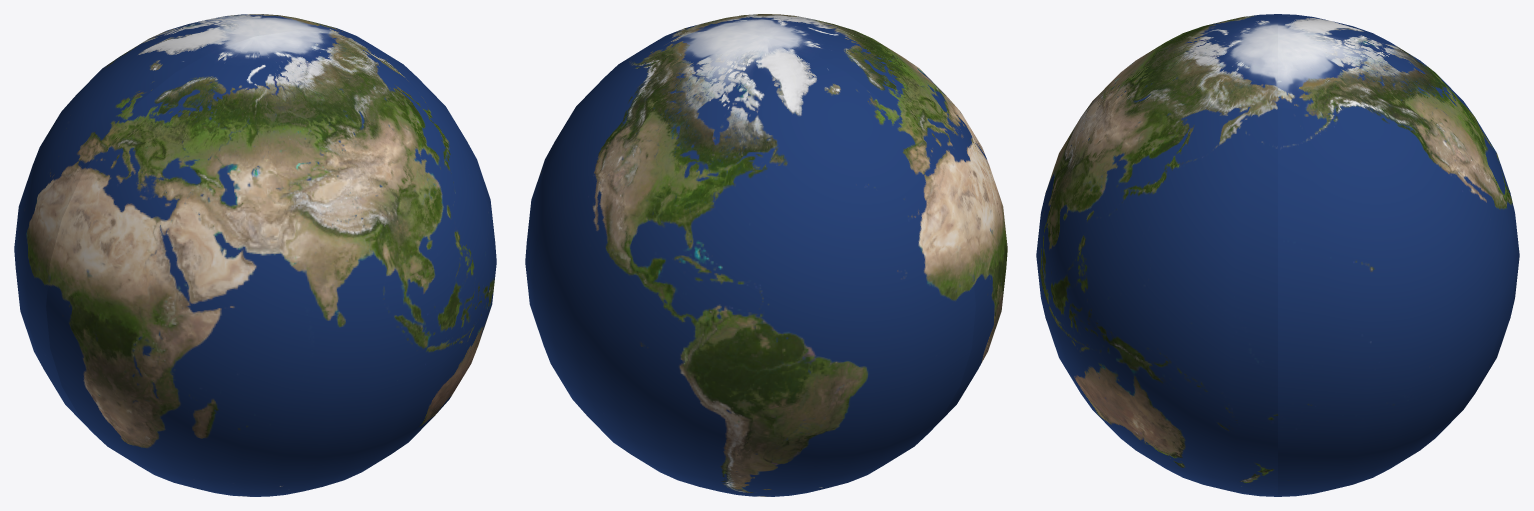
The model's file is earth.gltf.
3 views of the same model, side by side, from view 1: azimuth 30°, elevation 25°; view 2: azimuth 150°, elevation 25°; view 3: azimuth 270°, elevation 25° (orthographic).
Visible parts, largest first — view 1: Sphere.049, Sphere.048; view 2: Sphere.048, Sphere.049; view 3: Sphere.048, Sphere.049.
Part boxes in pixels (x1,y1,x2,y2): Sphere.049: [46, 30, 496, 496]; Sphere.048: [14, 14, 370, 443]; Sphere.048: [525, 30, 975, 496]; Sphere.049: [651, 14, 1007, 443]; Sphere.048: [1278, 14, 1519, 496]; Sphere.049: [1036, 14, 1277, 496].
Bounding box in the file's own units: 2 × 2 × 2.
Materials: 6 (6 with a texture image).
